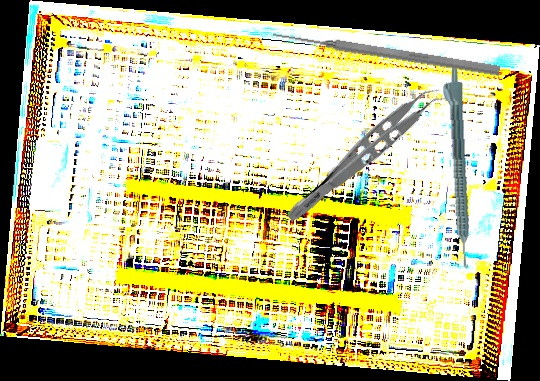Handpiece: (439, 66, 473, 270)
Pusher: (272, 27, 501, 78)
Tissue Forceps: (283, 77, 450, 236)
